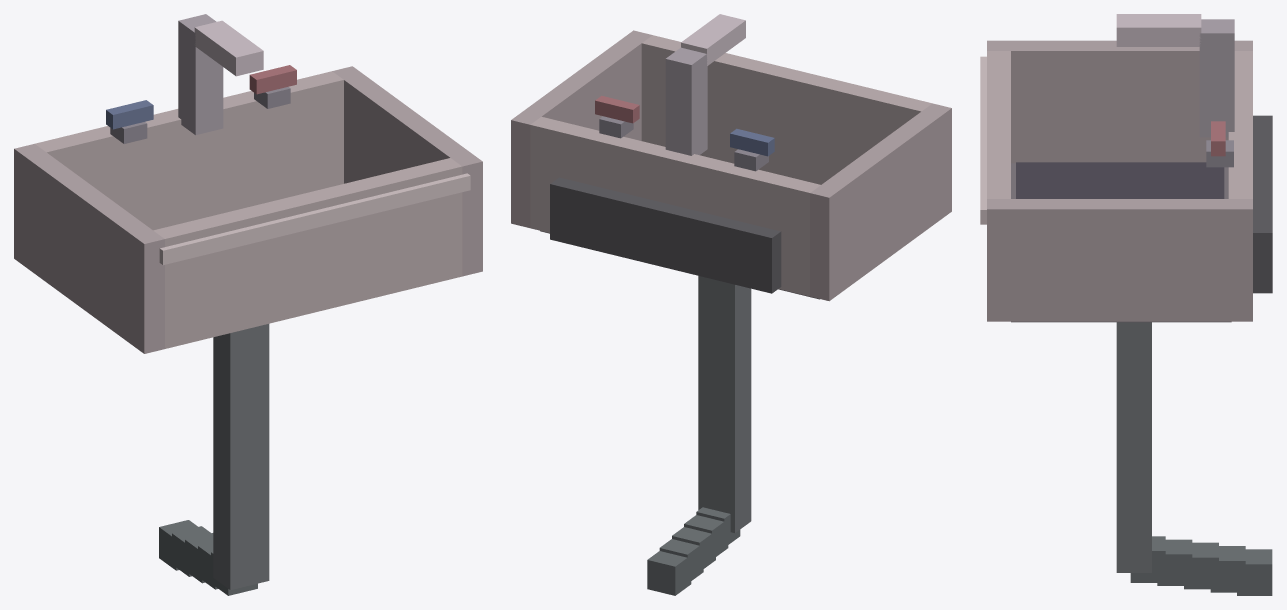
File: CMU3DWideWashbasin.glb
3 views of the same model, side by side, from view 1: azimuth 30°, elevation 25°; view 2: azimuth 150°, elevation 25°; view 3: azimuth 270°, elevation 25° (orthographic). The views are drawn at different scales.
Parts seen in each view (by area): view 1: basin rim end (×2), basin side (×2), drain downpipe, basin front shine, faucet stem, drain return (×4), faucet spout, tap handle (×2); view 2: basin rim end (×2), basin side (×2), sink wall bracket, drain downpipe, faucet stem, drain return (×4), faucet spout, tap handle (×2); view 3: basin side (×2), drain downpipe, basin inner floor, basin rim end (×2), drain return (×5), faucet stem, sink wall bracket, faucet spout, basin front shine, basin bottom, tap foot, tap handle.
Boxes of the visible parts, x1=… form: basin rim end (×2): x1=35, y1=71, x2=462, y2=348; basin side (×2): x1=14, y1=66, x2=482, y2=353; drain downpipe: x1=213, y1=324, x2=269, y2=590; basin front shine: x1=159, y1=173, x2=470, y2=265; faucet stem: x1=178, y1=14, x2=223, y2=135; drain return (×4): x1=159, y1=520, x2=218, y2=589; faucet spout: x1=194, y1=20, x2=263, y2=76; tap handle (×2): x1=106, y1=65, x2=296, y2=129; basin rim end (×2): x1=530, y1=35, x2=932, y2=296; basin side (×2): x1=511, y1=30, x2=951, y2=301; sink wall bracket: x1=550, y1=177, x2=781, y2=293; drain downpipe: x1=698, y1=276, x2=751, y2=532; faucet stem: x1=665, y1=47, x2=707, y2=155; drain return (×4): x1=647, y1=515, x2=728, y2=595; faucet spout: x1=681, y1=14, x2=745, y2=65; tap handle (×2): x1=595, y1=95, x2=774, y2=156; basin side (×2): x1=987, y1=40, x2=1252, y2=321; drain downpipe: x1=1116, y1=322, x2=1151, y2=572; basin inner floor: x1=1016, y1=162, x2=1224, y2=198; basin rim end (×2): x1=987, y1=51, x2=1252, y2=198; drain return (×5): x1=1130, y1=536, x2=1272, y2=595; faucet stem: x1=1199, y1=19, x2=1234, y2=137; sink wall bracket: x1=1253, y1=115, x2=1272, y2=293; faucet spout: x1=1116, y1=14, x2=1201, y2=46; basin front shine: x1=980, y1=56, x2=986, y2=224; basin bottom: x1=1011, y1=163, x2=1231, y2=322; tap foot: x1=1206, y1=140, x2=1233, y2=167; tap handle: x1=1211, y1=121, x2=1225, y2=156.
Bounding box in the file's own units: 0.66 × 1.04 × 0.484.
